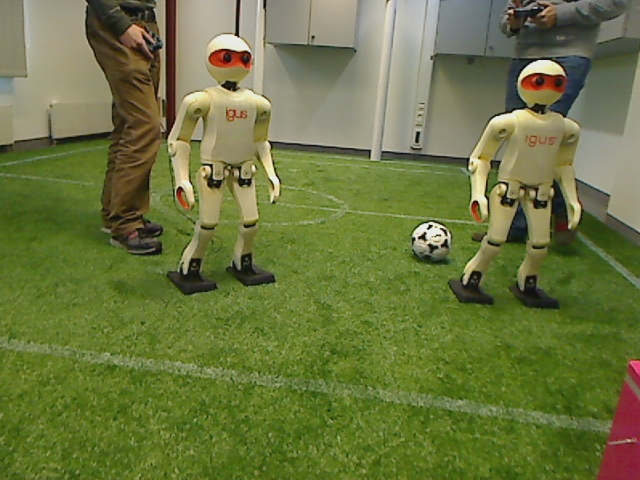ball: (406, 217, 456, 266)
robot: (163, 31, 283, 298), (461, 57, 581, 315)
